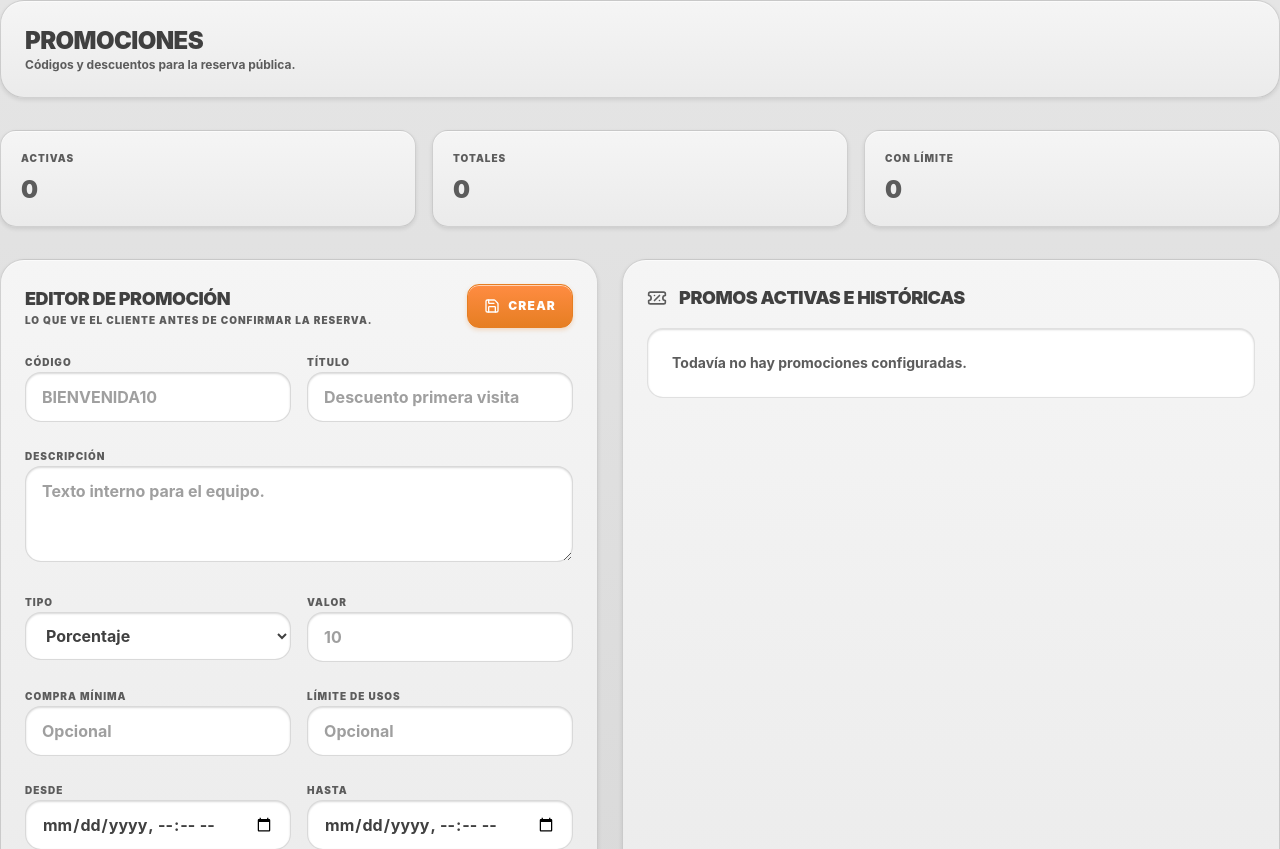
Scenario: PromotionsPage › valida antes de guardar, muestra errores junto a los campos y enfoca el primero
This screenshot has width=1280, height=849.
Click the button "Crear" at {"x": 520, "y": 306}, box [467, 284, 573, 328]
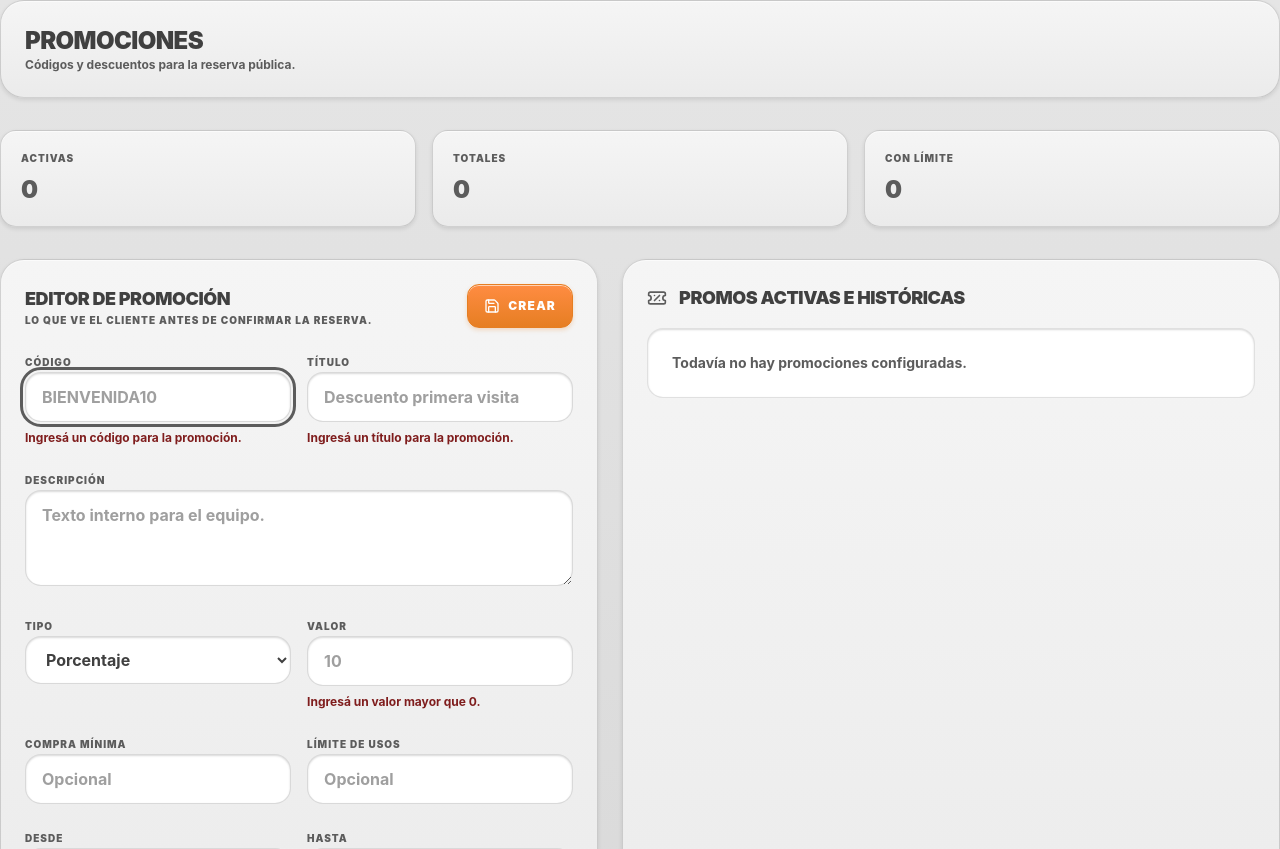
Check: the text "Ingresá un código para la promoción." is shown, box [25, 430, 242, 445]
Check: the text "Ingresá un título para la promoción." is shown, box [307, 430, 514, 445]
Check: the text "Ingresá un valor mayor que 0." is shown, box [307, 694, 480, 709]
